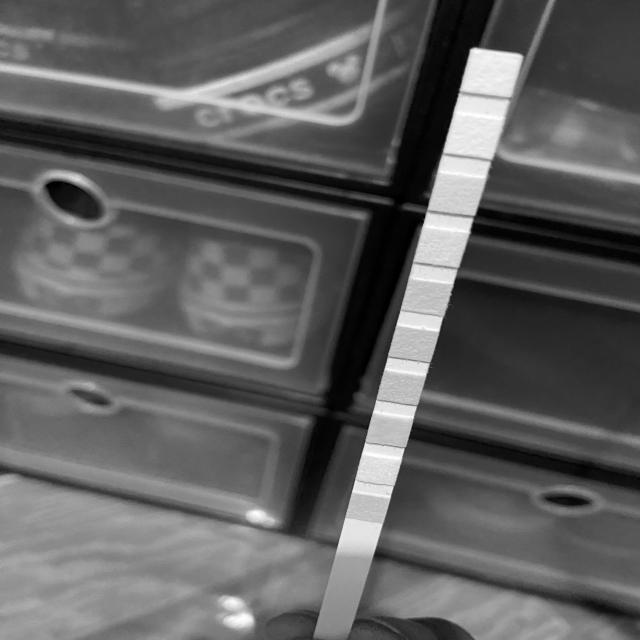Bilirubin: (360, 460, 396, 480)
Blood: (394, 333, 432, 357)
Glucose: (352, 498, 384, 518)
Ketone: (371, 420, 407, 442)
Leukocytes: (468, 59, 513, 91)
Nitrite: (451, 122, 495, 154)
Protein: (420, 237, 461, 262)
SpGravity: (382, 377, 419, 400)
Urobilinogen: (435, 180, 477, 211)
background: (0, 0, 640, 640)
pH: (406, 286, 446, 310)
strip: (314, 49, 523, 639)
